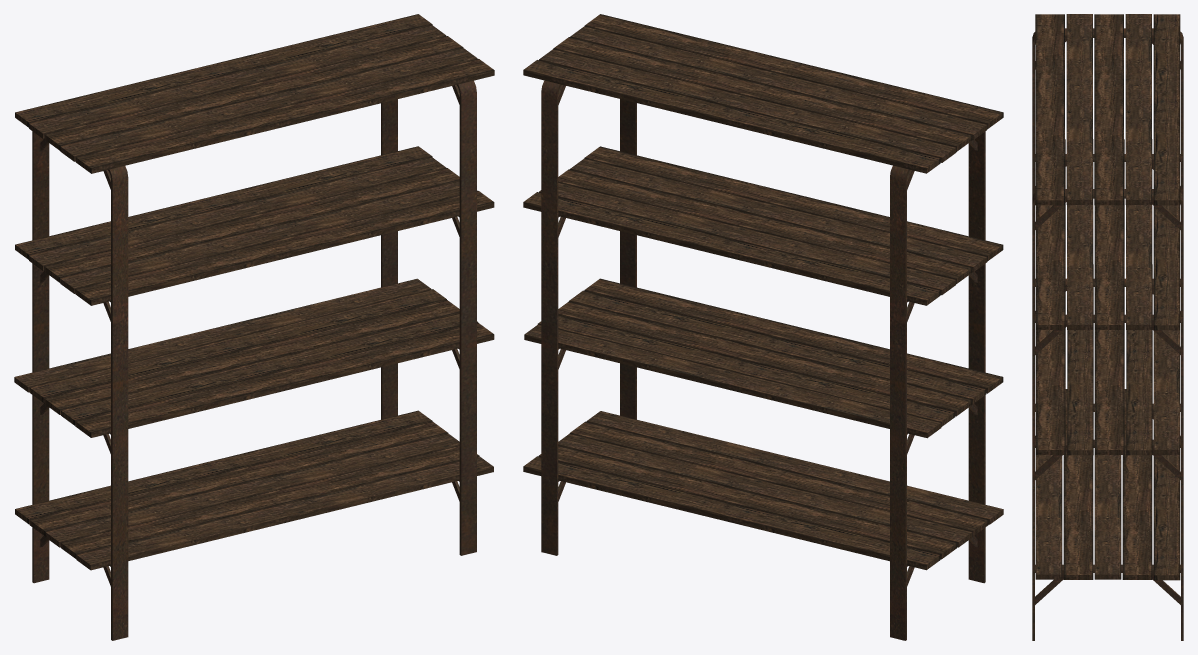
File: shelf_mx_1.obj
3 views of the same model, side by side, from view 1: azimuth 30°, elevation 25°; view 2: azimuth 150°, elevation 25°; view 3: azimuth 270°, elevation 25° (orthographic). The views are drawn at different scales.
Parts seen in each view (by area): view 1: shelf_mx_1; view 2: shelf_mx_1; view 3: shelf_mx_1.
Part boxes in pixels (bbox=[...]): shelf_mx_1: bbox=[14, 14, 494, 640]; shelf_mx_1: bbox=[523, 14, 1003, 640]; shelf_mx_1: bbox=[1032, 14, 1183, 640].
Bounding box in the file's own units: 1.6 × 1.8 × 0.55.
